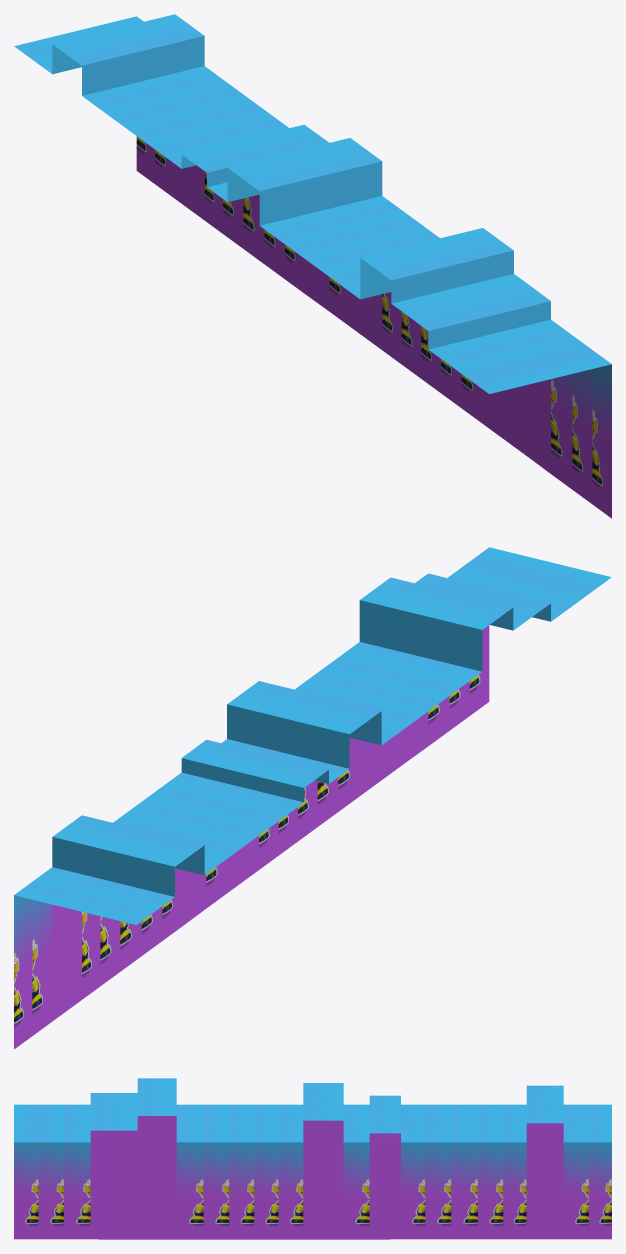
3 views of the same model, one above another, from view 1: azimuth 30°, elevation 25°; view 2: azimuth 150°, elevation 25°; view 3: azimuth 270°, elevation 25° (orthographic). The views are drawn at different scales.
Visible parts, largest first — view 1: Joint_0_Object_0; view 2: Joint_0_Object_0; view 3: Joint_0_Object_0.
Boxes of the visible parts, bbox=[...] form: Joint_0_Object_0: bbox=[14, 14, 611, 518]; Joint_0_Object_0: bbox=[14, 547, 611, 1049]; Joint_0_Object_0: bbox=[14, 1078, 611, 1239].
Bounding box in the file's own units: 551 × 841 × 3690.
